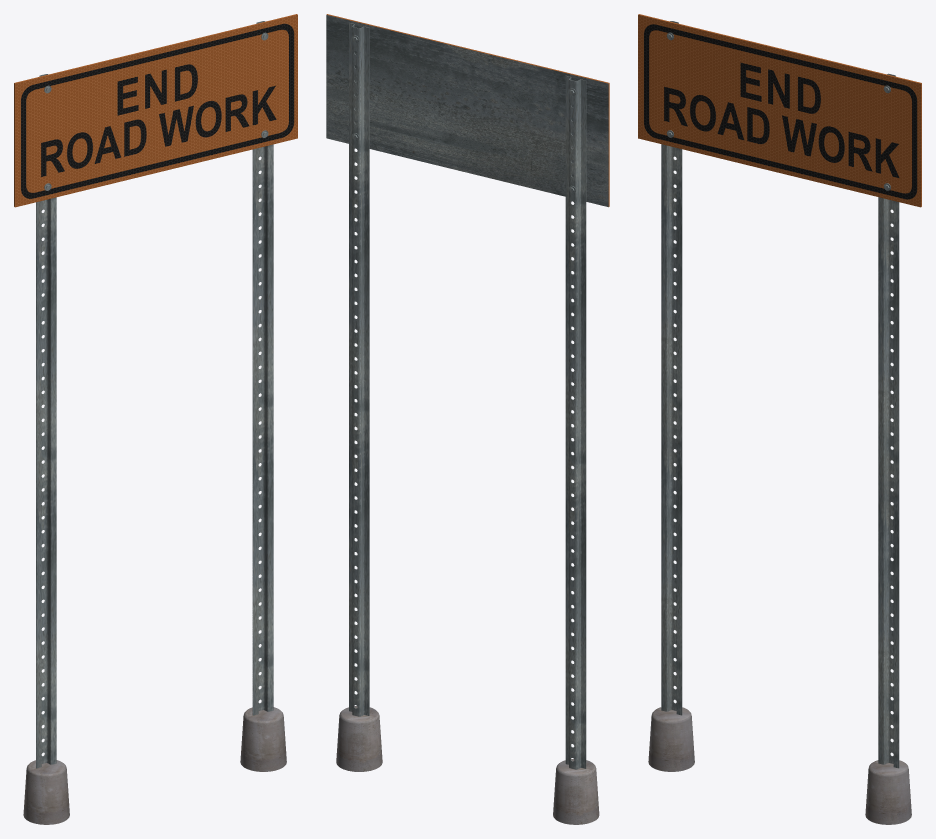
File: endroadwork_nsoc.obj
3 renders of one model, left to right at view 1: azimuth 30°, elevation 25°; view 2: azimuth 150°, elevation 25°; view 3: azimuth 330°, elevation 25°, orthographic.
Parts seen in each view (by area): view 1: sign_end_roadwork; view 2: sign_end_roadwork; view 3: sign_end_roadwork.
Boxes of the visible parts, x1,y1,x2,y2 form: sign_end_roadwork: [14, 14, 297, 824]; sign_end_roadwork: [326, 14, 609, 824]; sign_end_roadwork: [638, 14, 921, 824].
Bounding box in the file's own units: 41.05 × 103 × 5.84.
3 materials, 3 textured.
